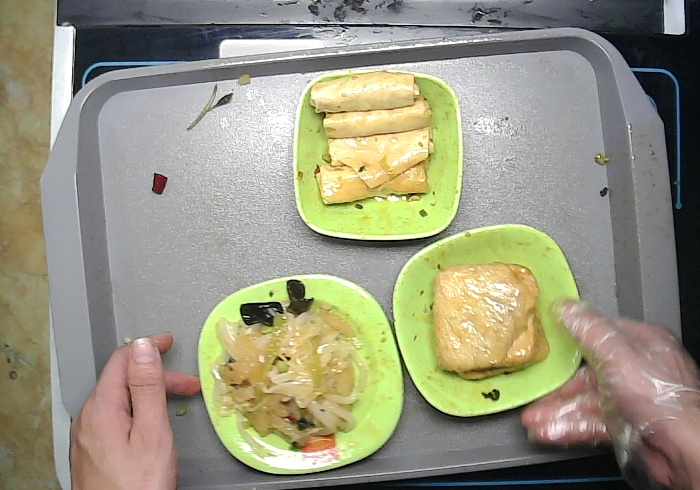SHKJ-Lv_Se_Cai_Die: (390, 225, 588, 418)
SHKJ-Lv_Se_Si_Fang_Cai_Die: (193, 273, 405, 475)
SHKJ-Lv_Se_Xiao_Fang_Die: (290, 69, 464, 244)
